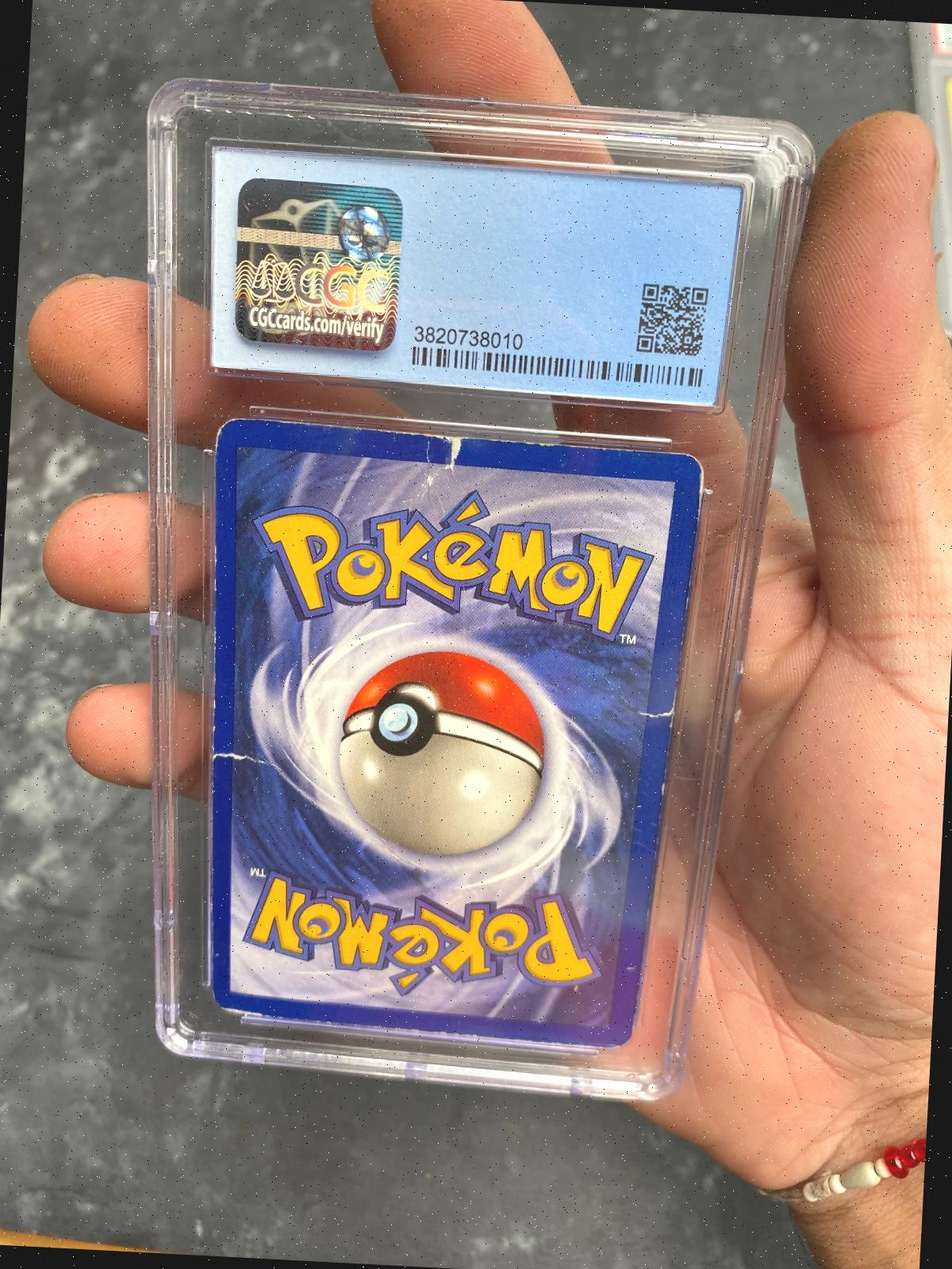card-2UtV: (211, 418, 705, 1050)
